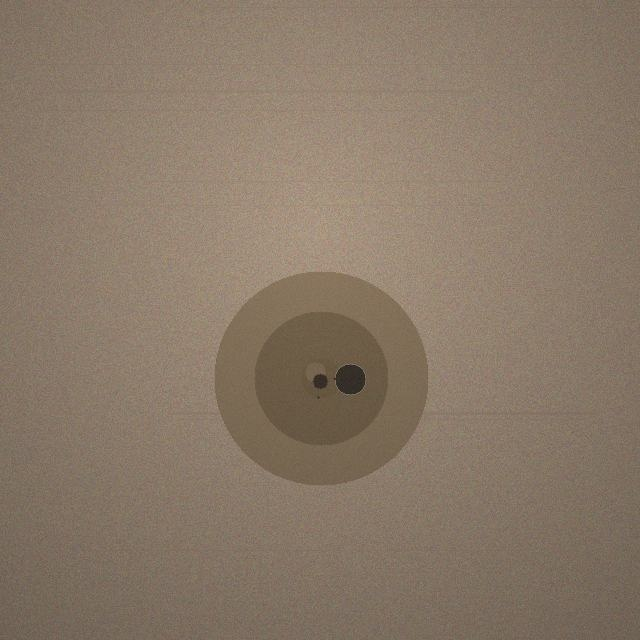shrinkage: (214, 271, 428, 485)
